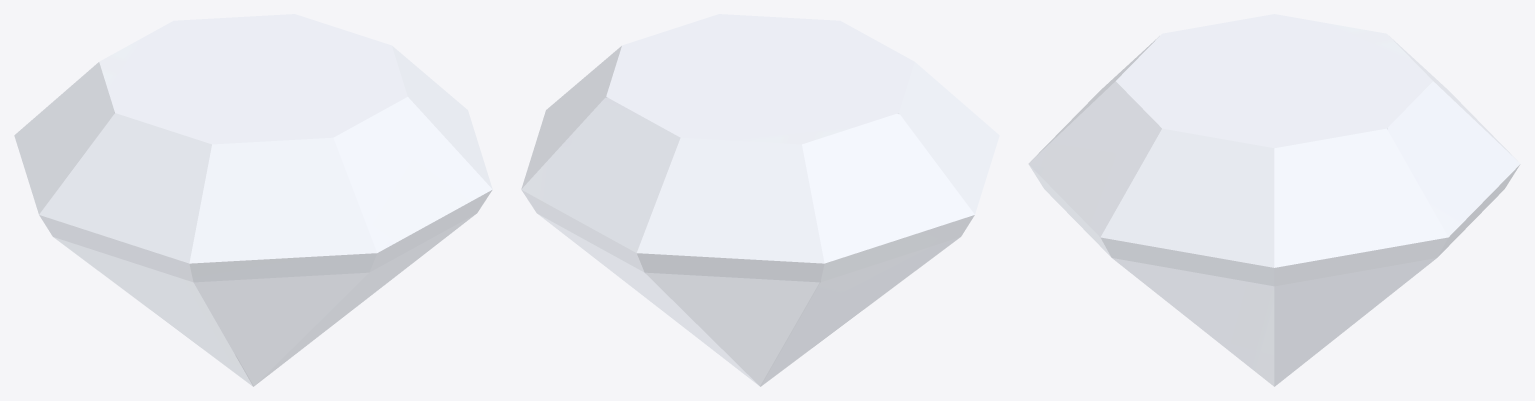
File: gem.glb
3 renders of one model, left to right at view 1: azimuth 30°, elevation 25°; view 2: azimuth 150°, elevation 25°; view 3: azimuth 270°, elevation 25°, orthographic.
Visible parts, largest first — view 1: Gem; view 2: Gem; view 3: Gem.
Boxes of the visible parts, bbox=[...] form: Gem: bbox=[14, 14, 492, 386]; Gem: bbox=[521, 14, 999, 386]; Gem: bbox=[1028, 14, 1520, 386].
Bounding box in the file's own units: 0.124 × 0.085 × 0.124.
Materials: 1 (1 with a texture image).
